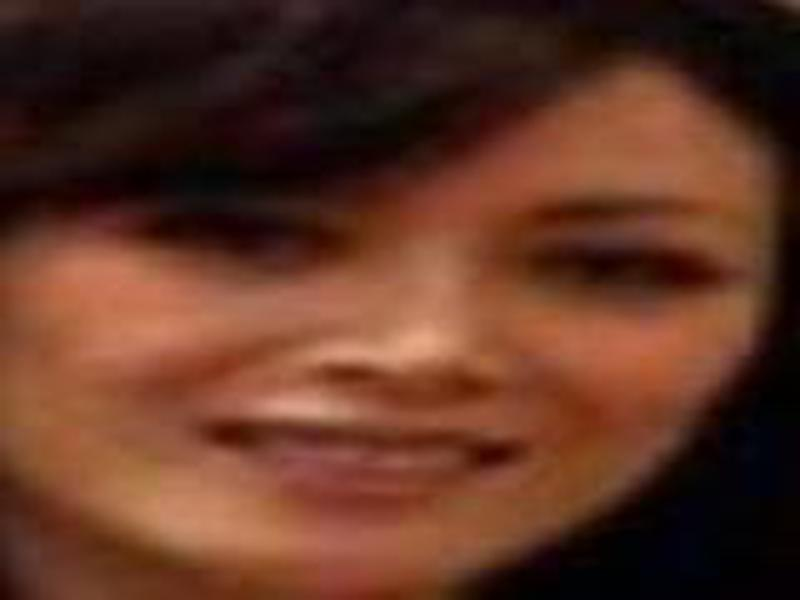without_mask: (4, 74, 772, 574)
